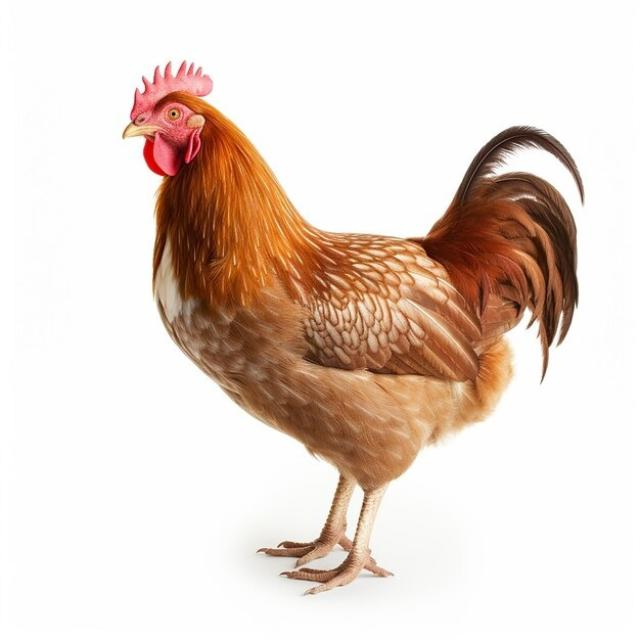Chicken: (123, 62, 583, 598)
